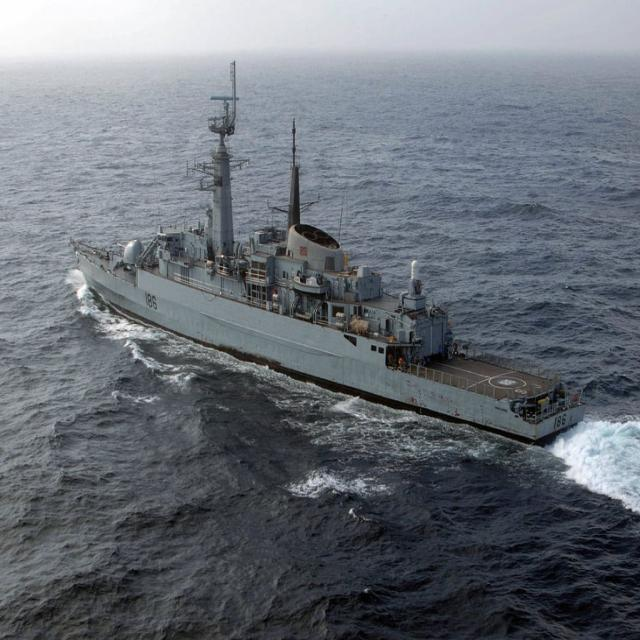Corvette-Babur-Class-PAK: (66, 53, 585, 448)
